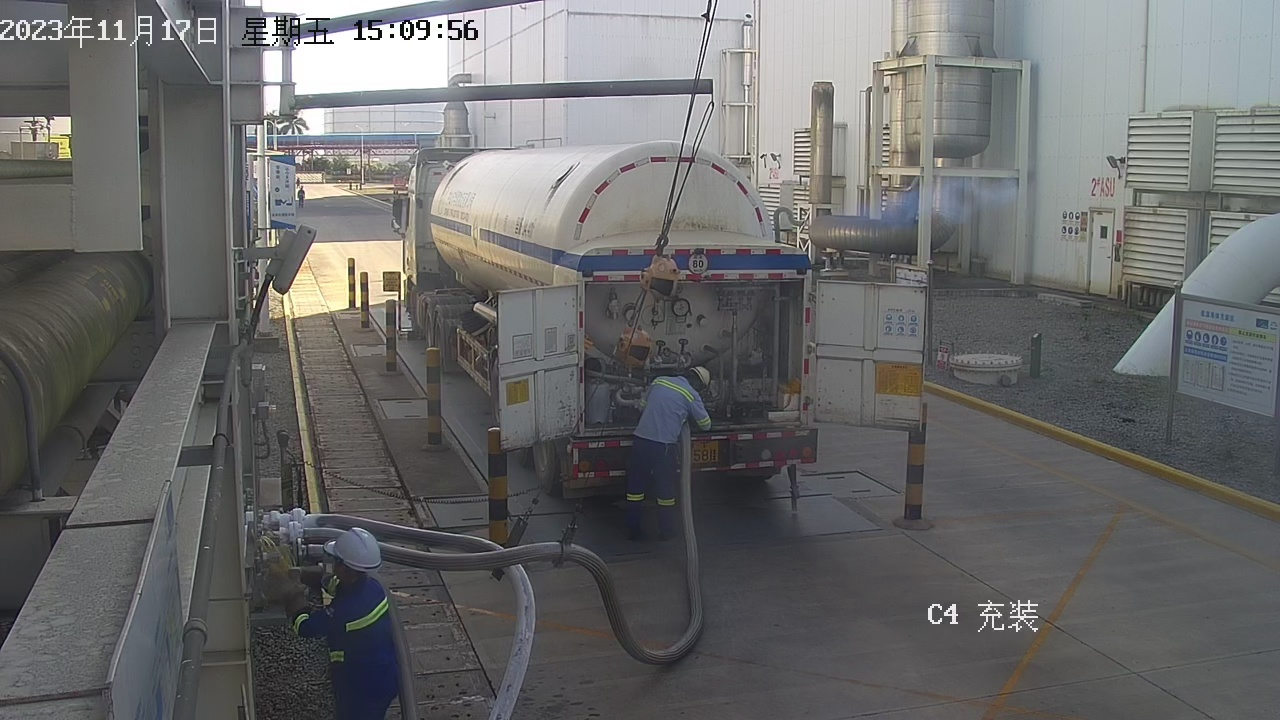Head_with_Helmet: (301, 518, 400, 596), (667, 349, 722, 401), (297, 184, 306, 191)
Uniform: (280, 578, 413, 720), (619, 372, 717, 551), (293, 188, 312, 211)
